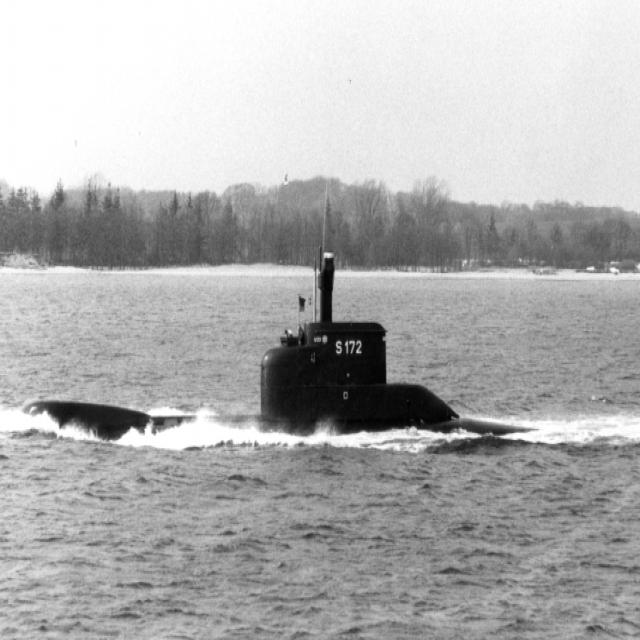submarine: (26, 252, 542, 434)
